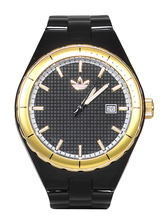watch: (13, 8, 157, 213)
